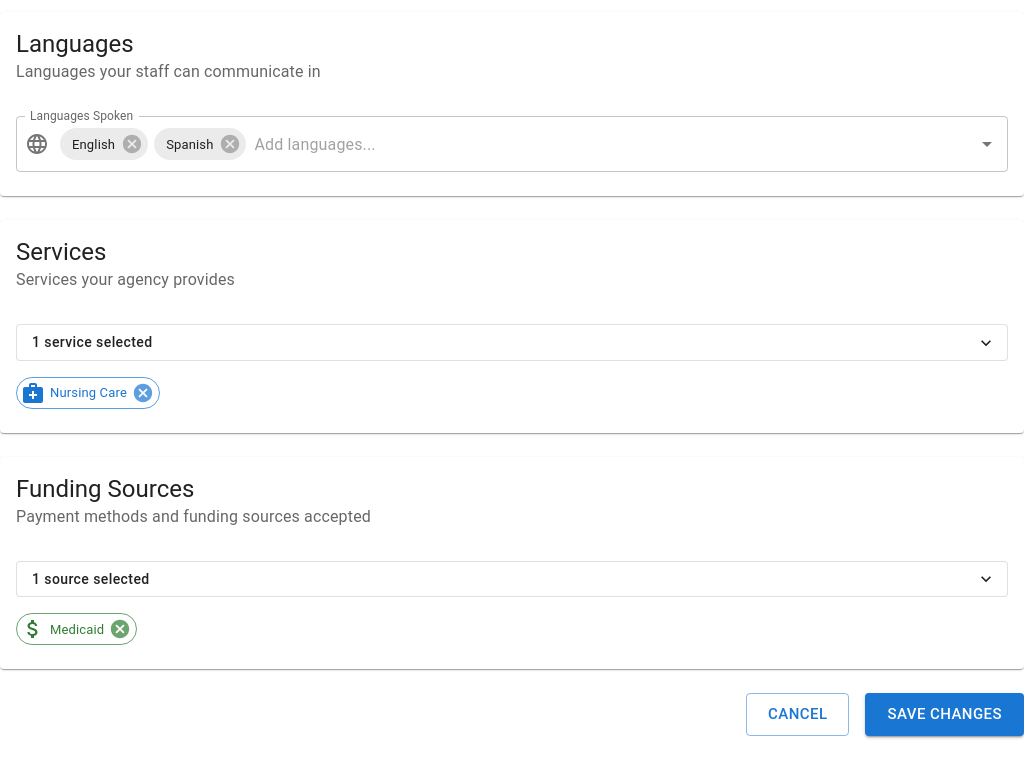
Test: Edit Agency Page - BVA Tests › Selection Count Boundaries › Funding Sources Selection Count › 0 sources - shows 'Select funding sources' placeholder
The image size is (1036, 768).
(page scrolled)
Step 1. Click the 4th icon with test id "CancelIcon" → (120, 630), box [109,618,131,640]
(page scrolled)
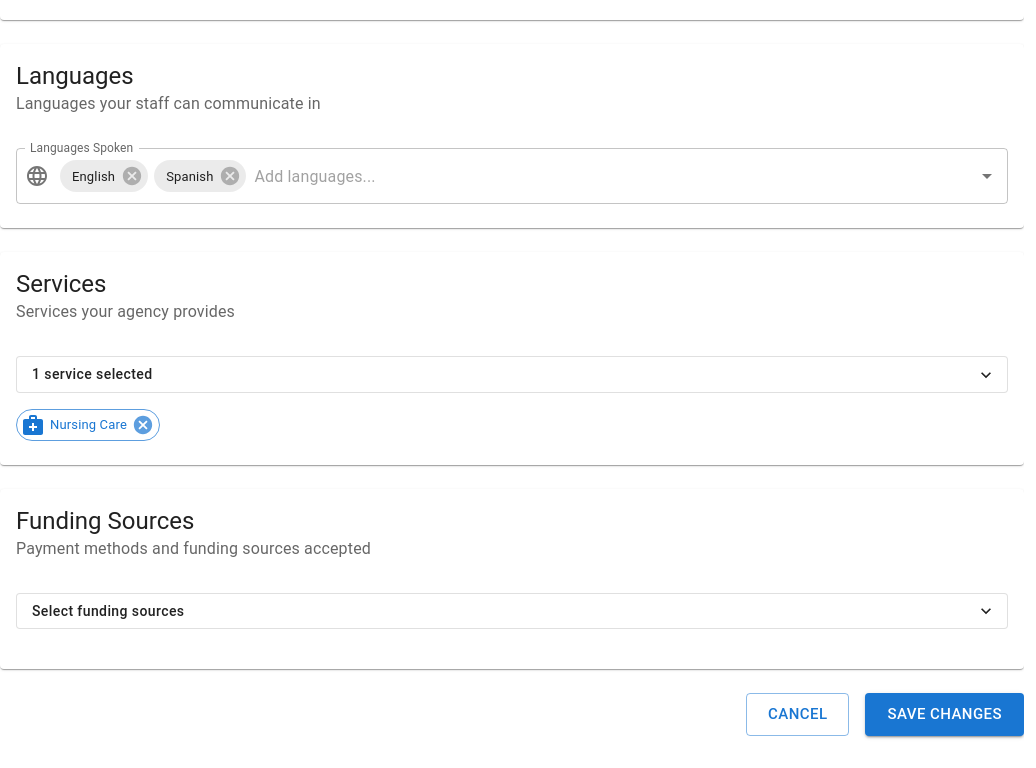
Result: the text "Select funding sources" is shown at [32,599,184,624]
